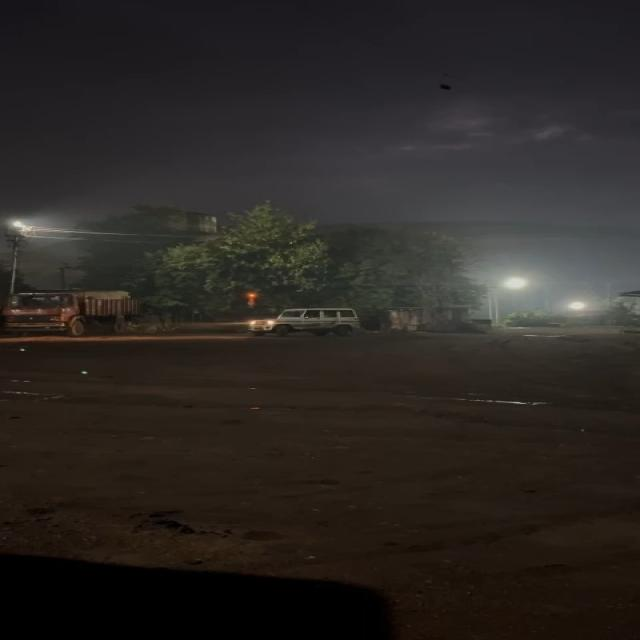light_vehicle: (237, 307, 364, 335)
